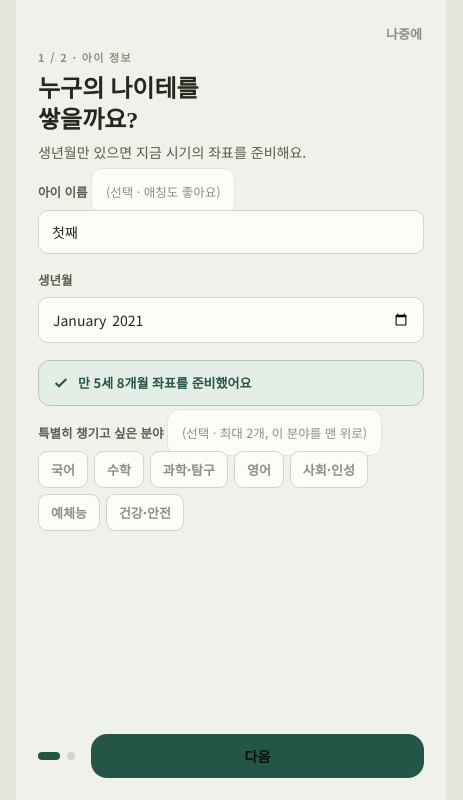
Test: ⭐ 빈 상태로 시작 + 셋업이 실제 데이터를 만든다 (제대로) › ⭐ §06-C 집 활동 칩을 누르면 그 영역이 챙김 + 오늘 할 일에 뜬다
Click the button "다음" at (258, 756), box [91,734,424,778]
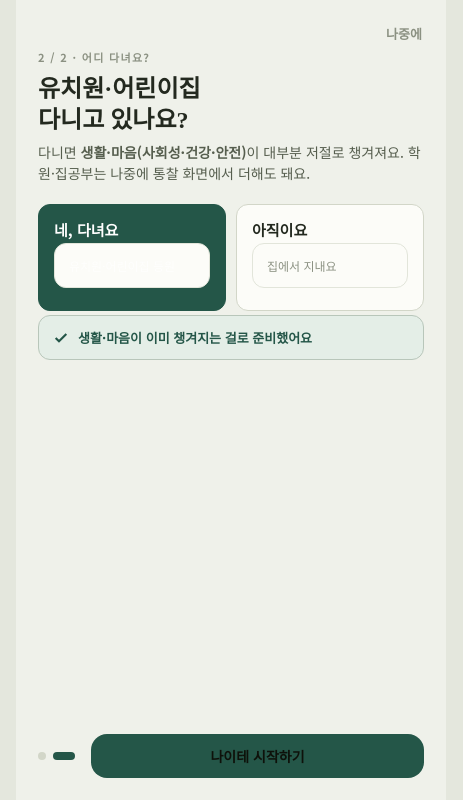
Click the button "나이테 시작하기" at (258, 756), box [91,734,424,778]
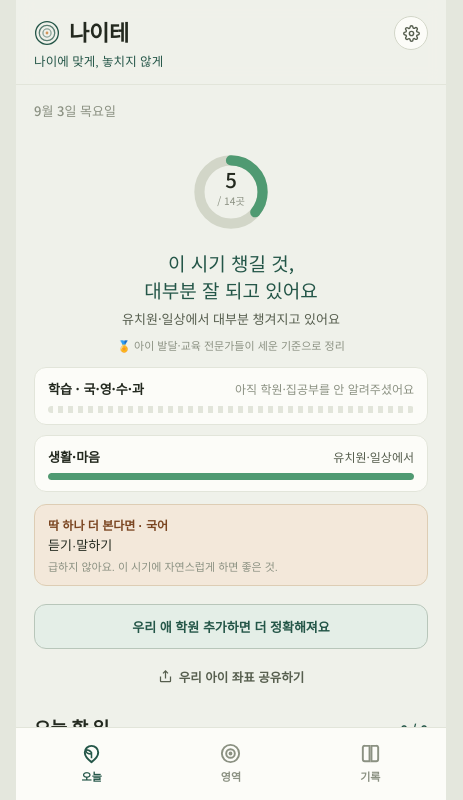
Click the button with test id "add-learn" at (231, 627), box [34,604,428,649]
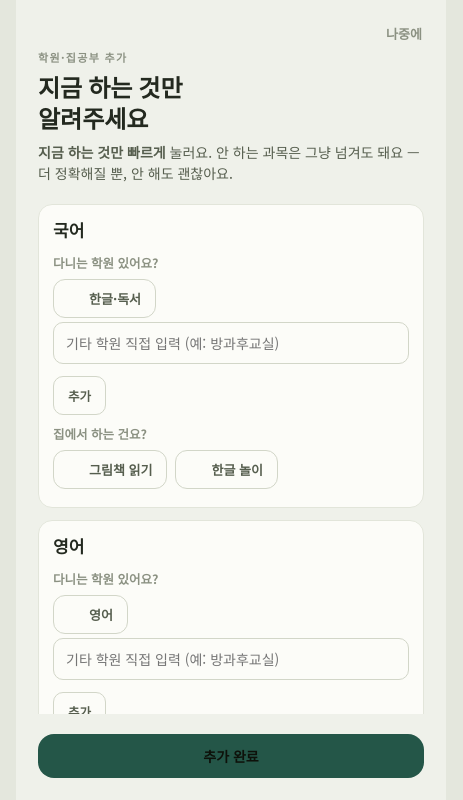
Result: the element with test id "learn-picker" is shown
Click the button "그림책 읽기" at (110, 469), box [53,450,168,489]
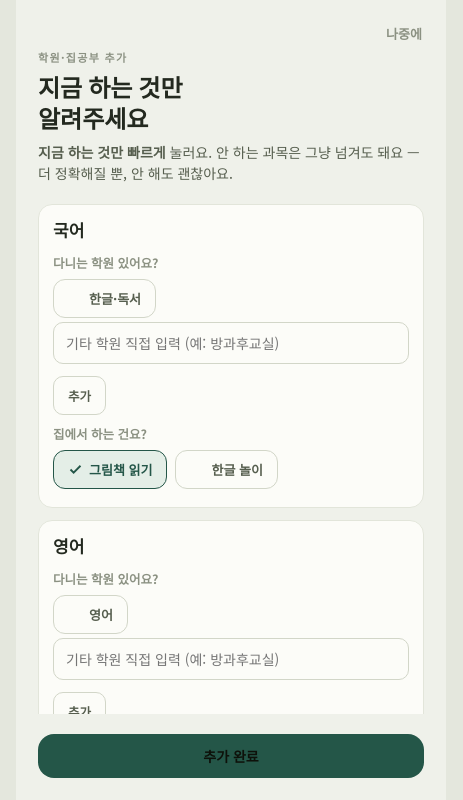
Click the button "추가 완료" at (231, 756), box [38,734,424,778]
(page scrolled)
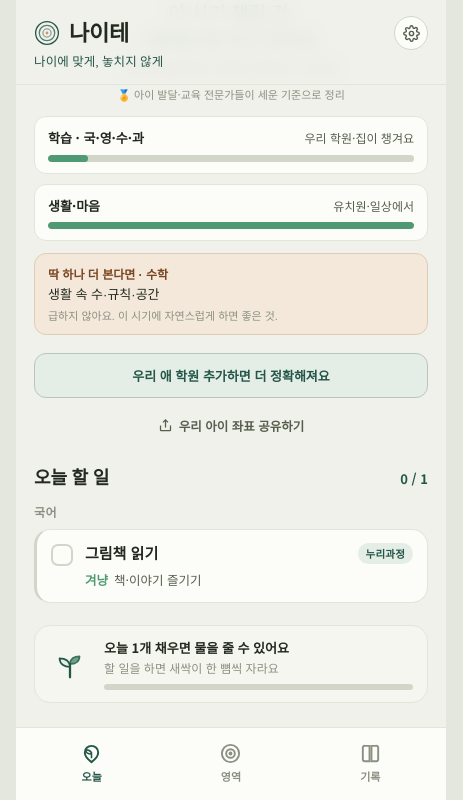
Result: the text "그림책 읽기" is shown at [85,543,158,563]
Result: the text "우리 학원·집이 챙겨요" is shown at [305,129,414,147]
